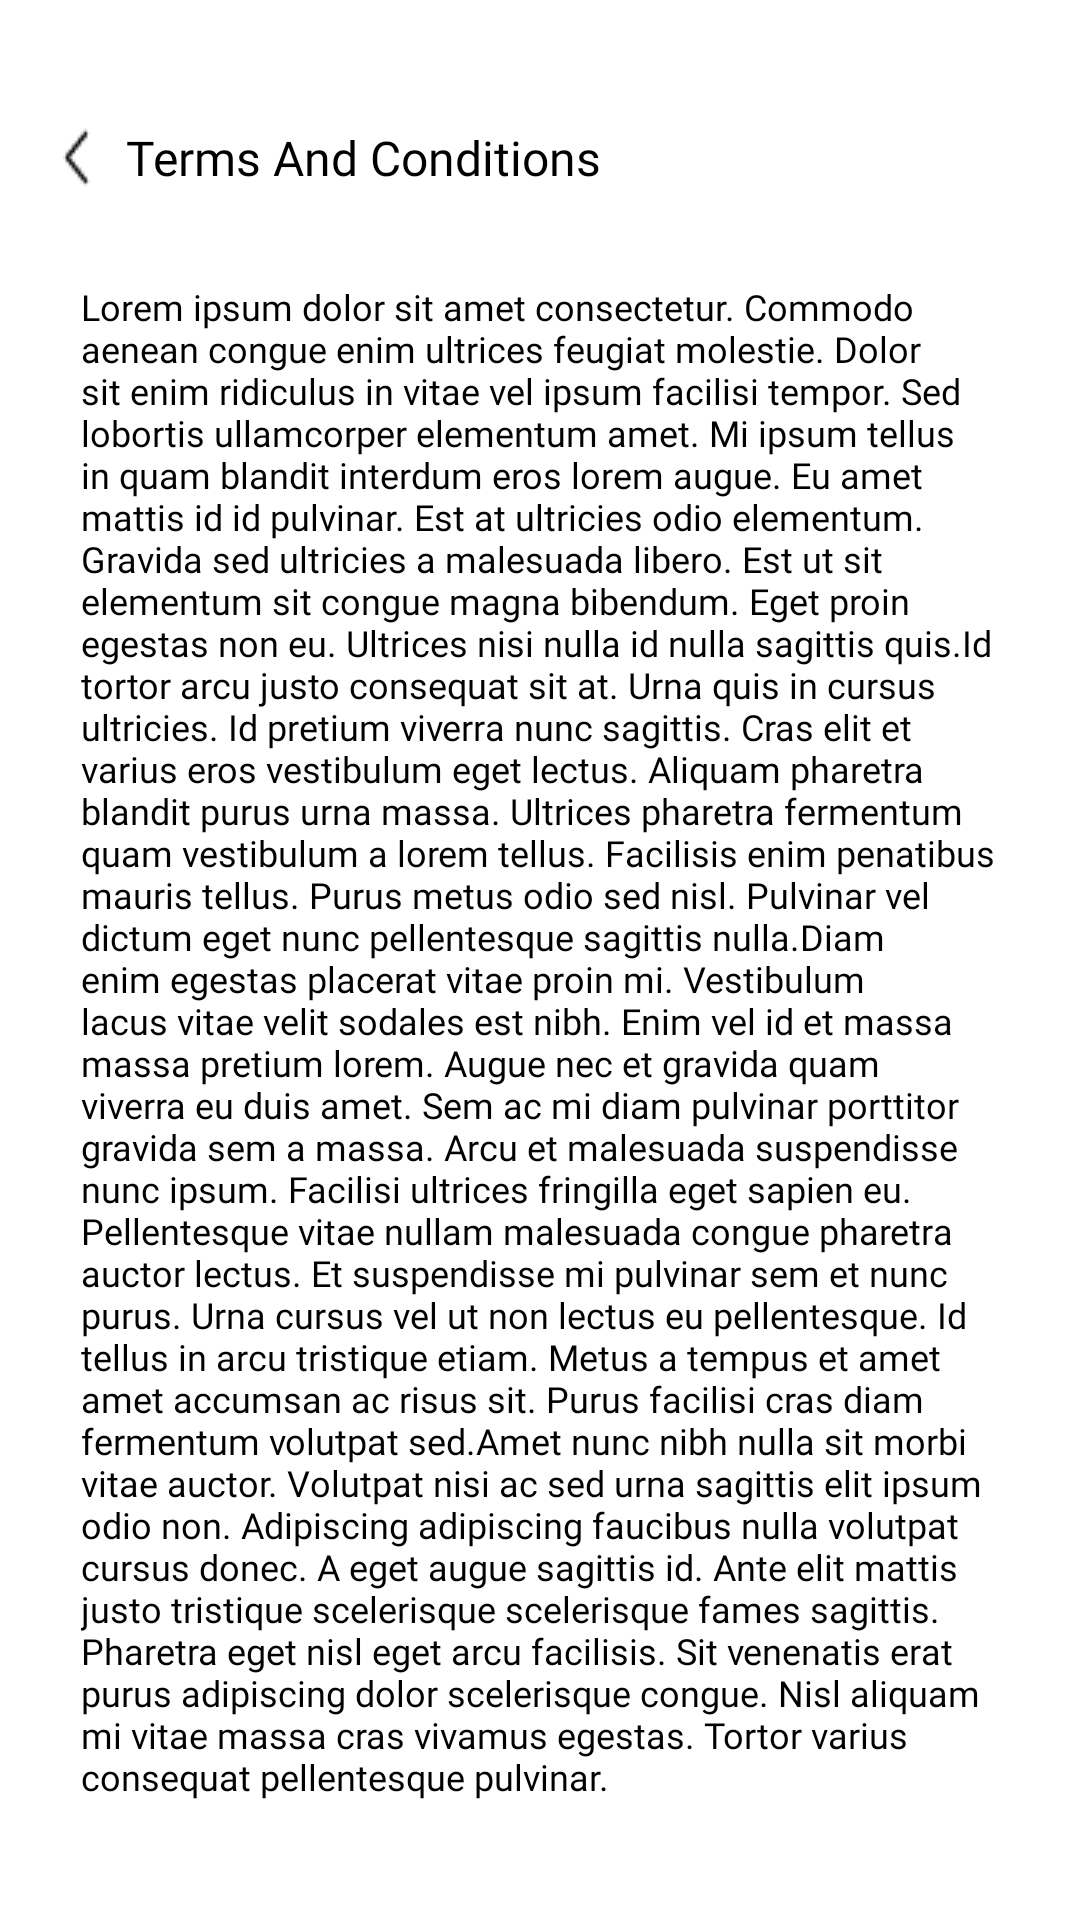

Where to tap for icons on this 1080×1920 app screen, as point (x, y):
back: point (76, 157)
